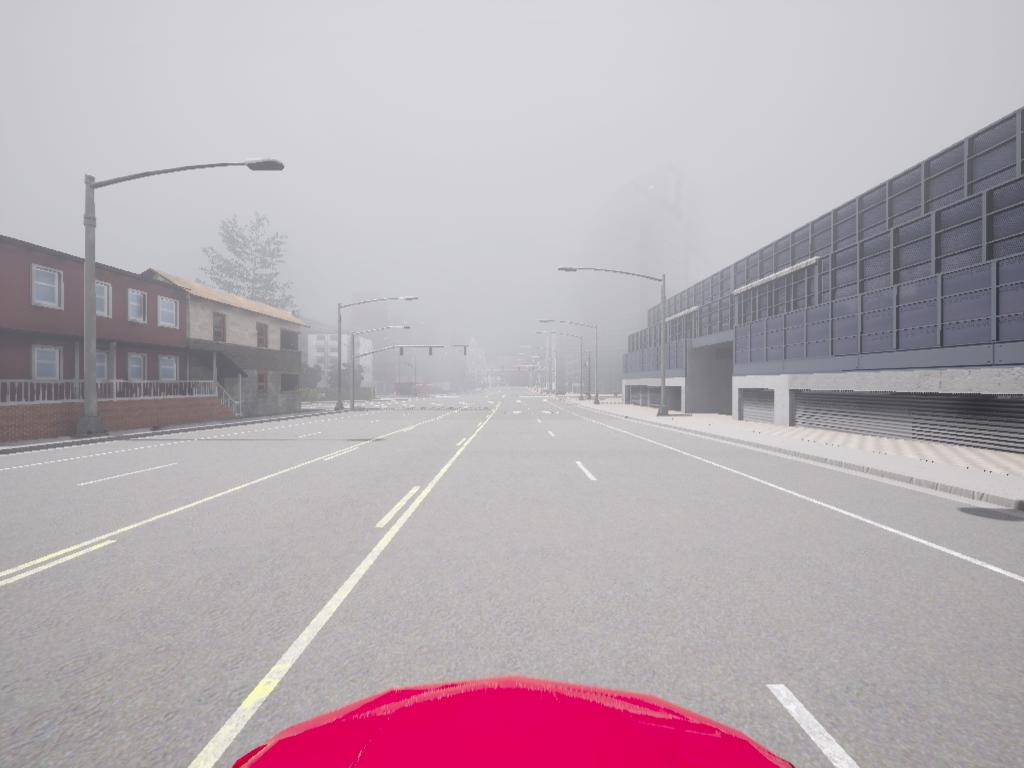traffic_light: (400, 347, 406, 359), (430, 347, 434, 358), (465, 346, 468, 357), (532, 367, 536, 374), (519, 367, 521, 374)
